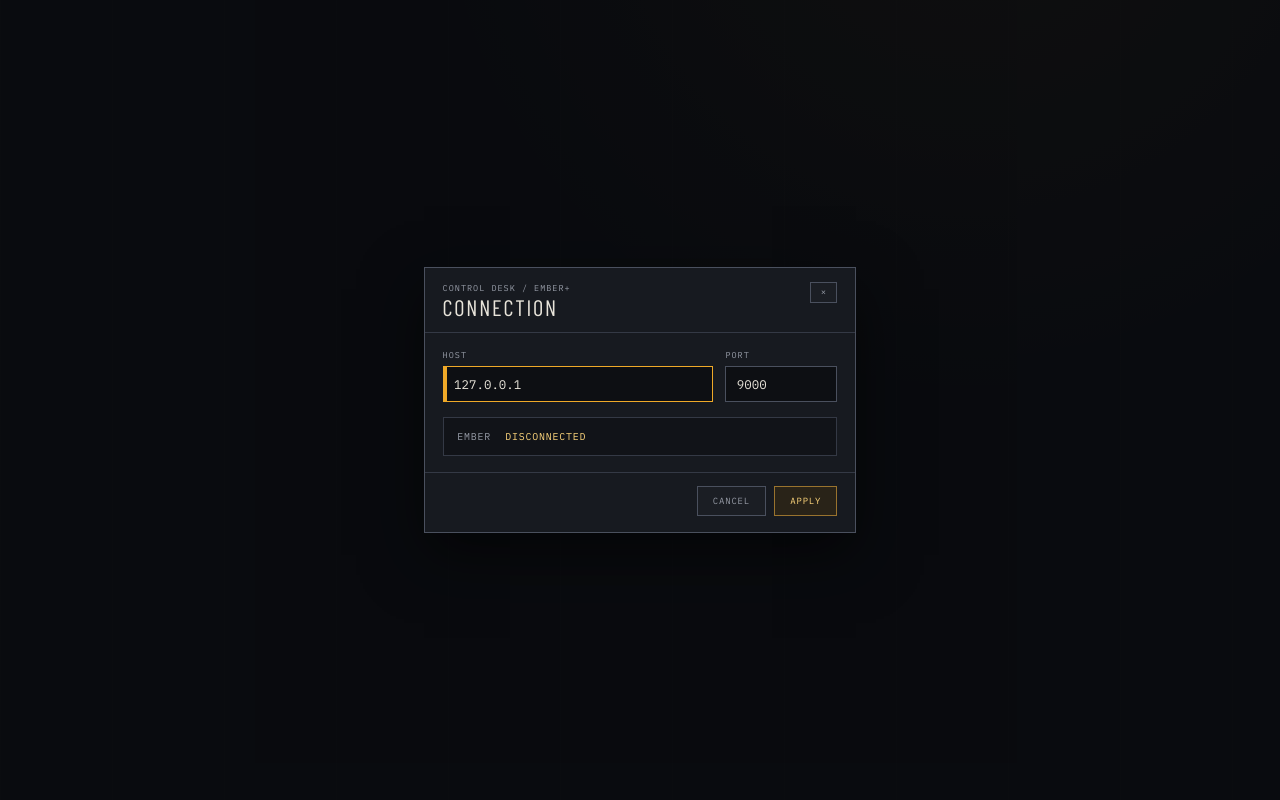
ConnectionPanel › shows a server rejection in place and keeps the typed values
The width and height of the screenshot is (1280, 800).
Replace the text in the field labelled "HOST" with "mixer.local" at (578, 384), box [443,366,713,402]
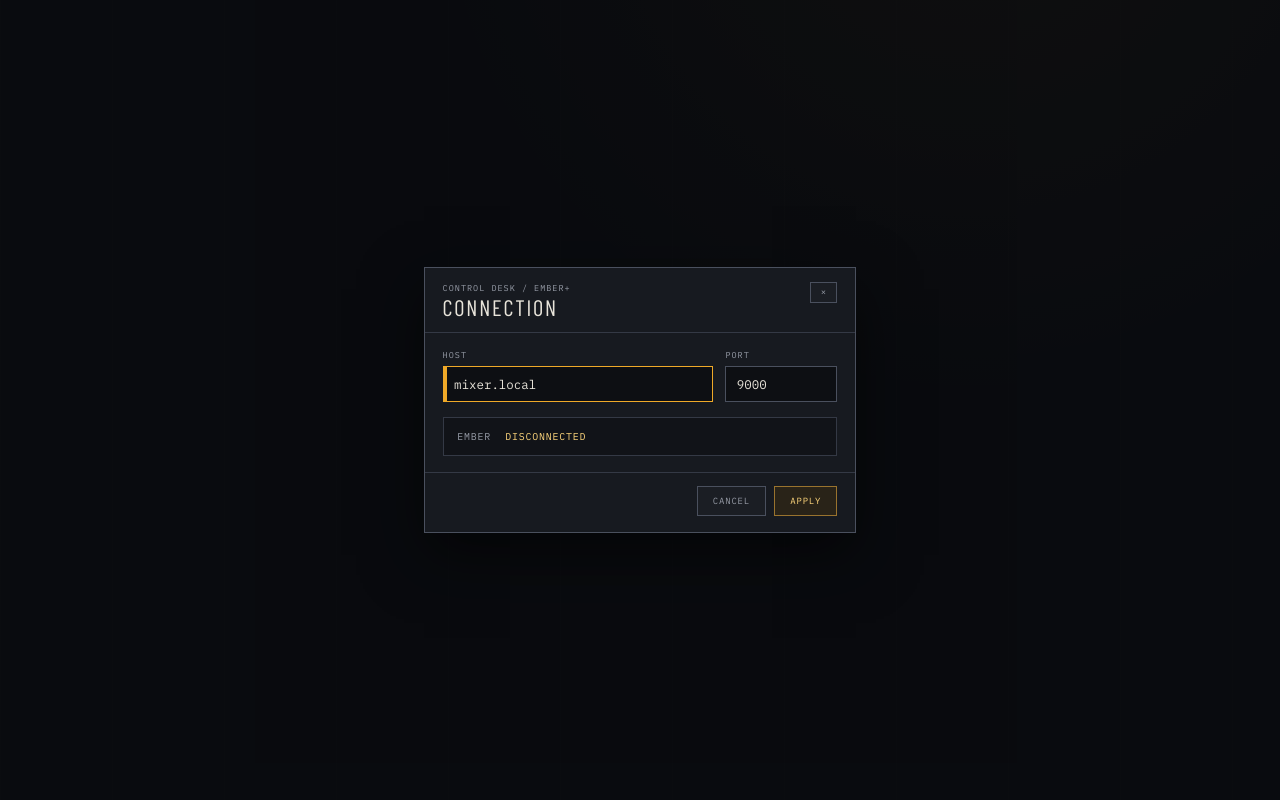
Click the button "APPLY" at (806, 501), box [774,486,837,516]
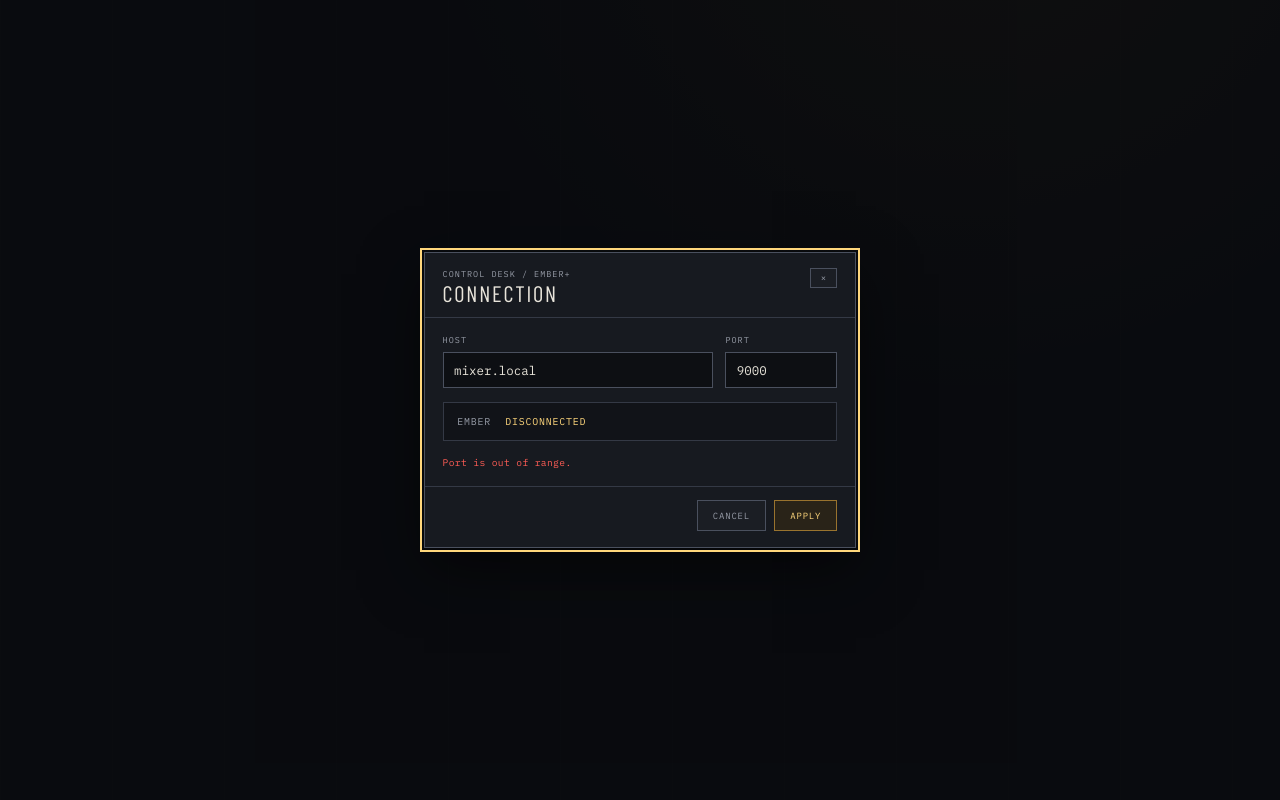
expect the button "APPLY" is enabled: met, box [774,500,837,531]
expect the message reads "Port is out of range.": met, box [443,456,572,469]
